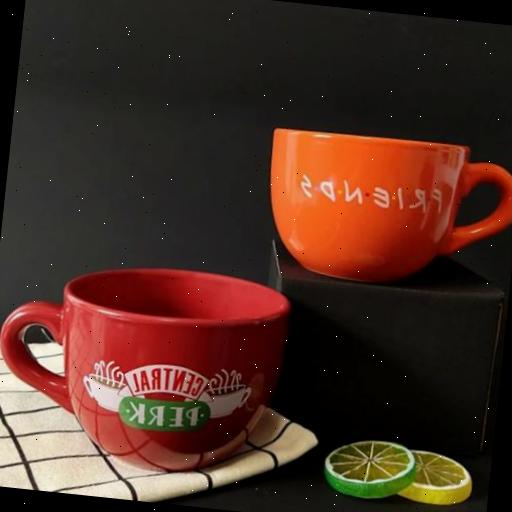cup: (0, 252, 292, 482)
